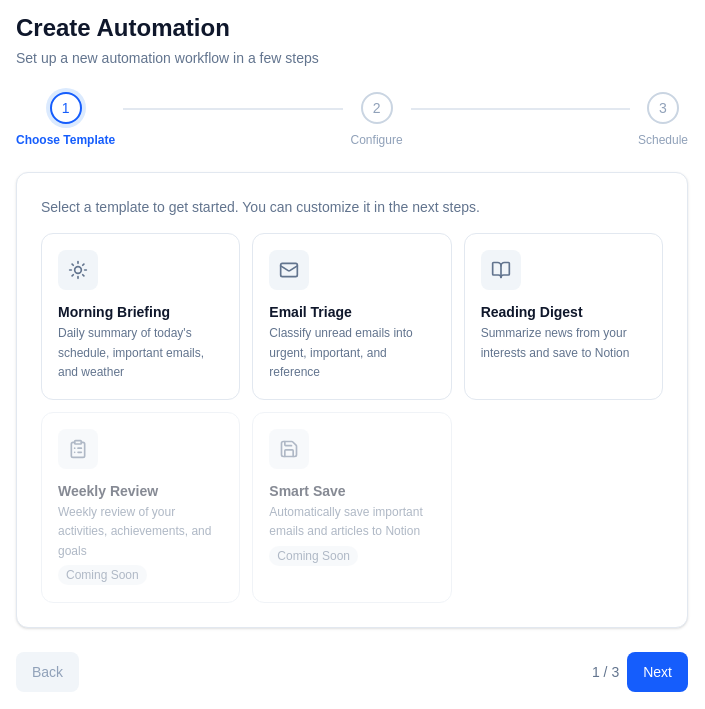
Test: NewAutomationPage — Schedule step (Step 3) › Step 3 renders SchedulePicker with Morning Briefing default cron '0 8 * * *'
Click the button "Morning Briefing": (141, 316) [41,233,240,400]
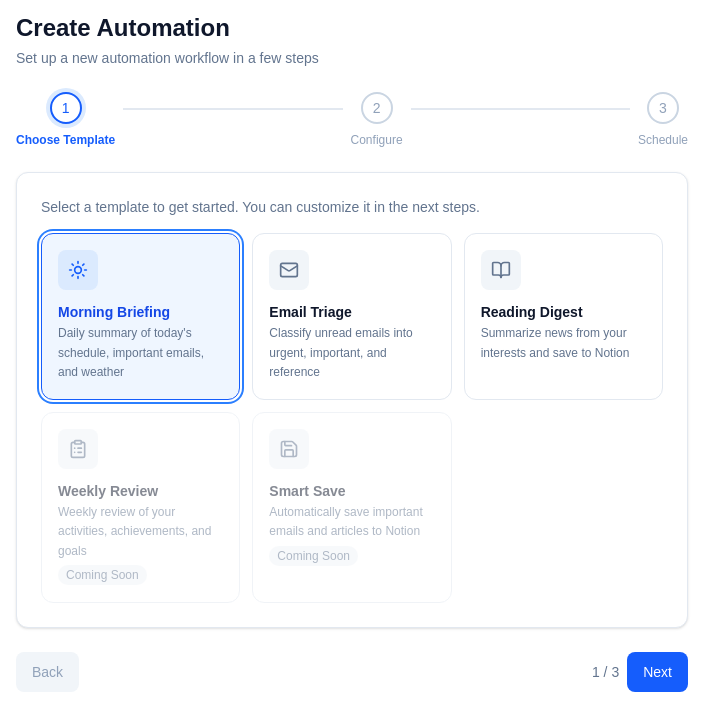
Click the button with aria-label "go to next step": (658, 672) [627,652,688,692]
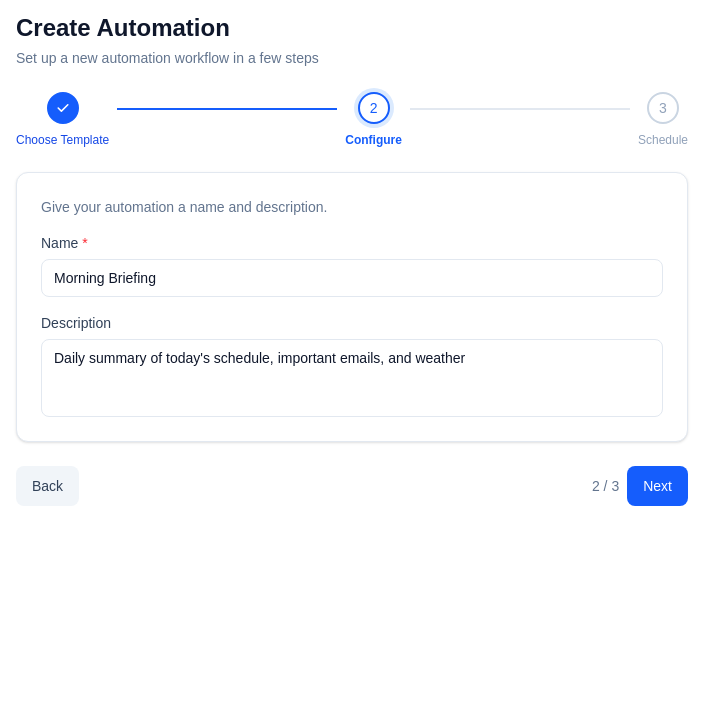
expect the field labelled "Name *" is shown: met, box [41,259,663,297]
Click the button with aria-label "go to next step": (658, 486) [627,466,688,506]
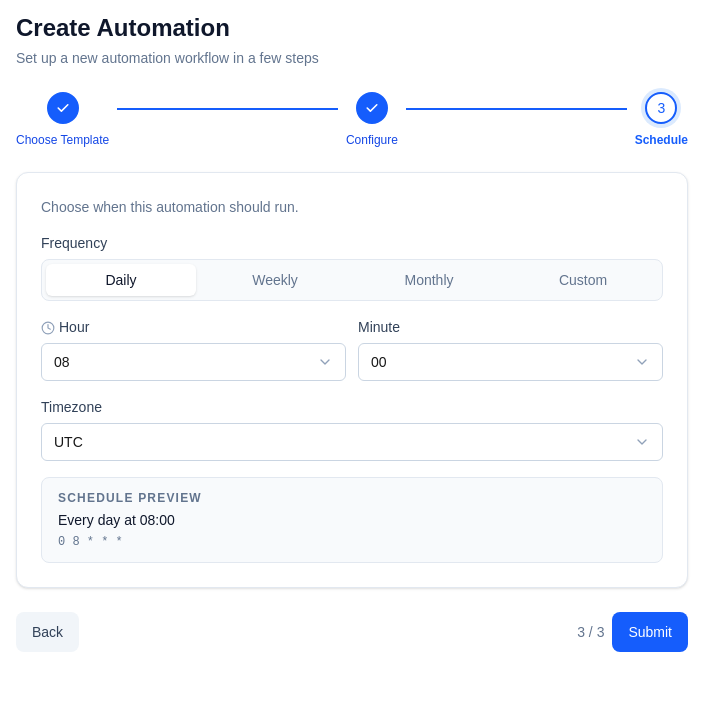
expect the element named "schedule frequency" is shown: met, box [41,259,663,301]
expect the text "0 8 * * *" is shown: met, box [58,535,123,549]
expect the text "Every day at 08:00" is shown: met, box [58,512,175,528]
